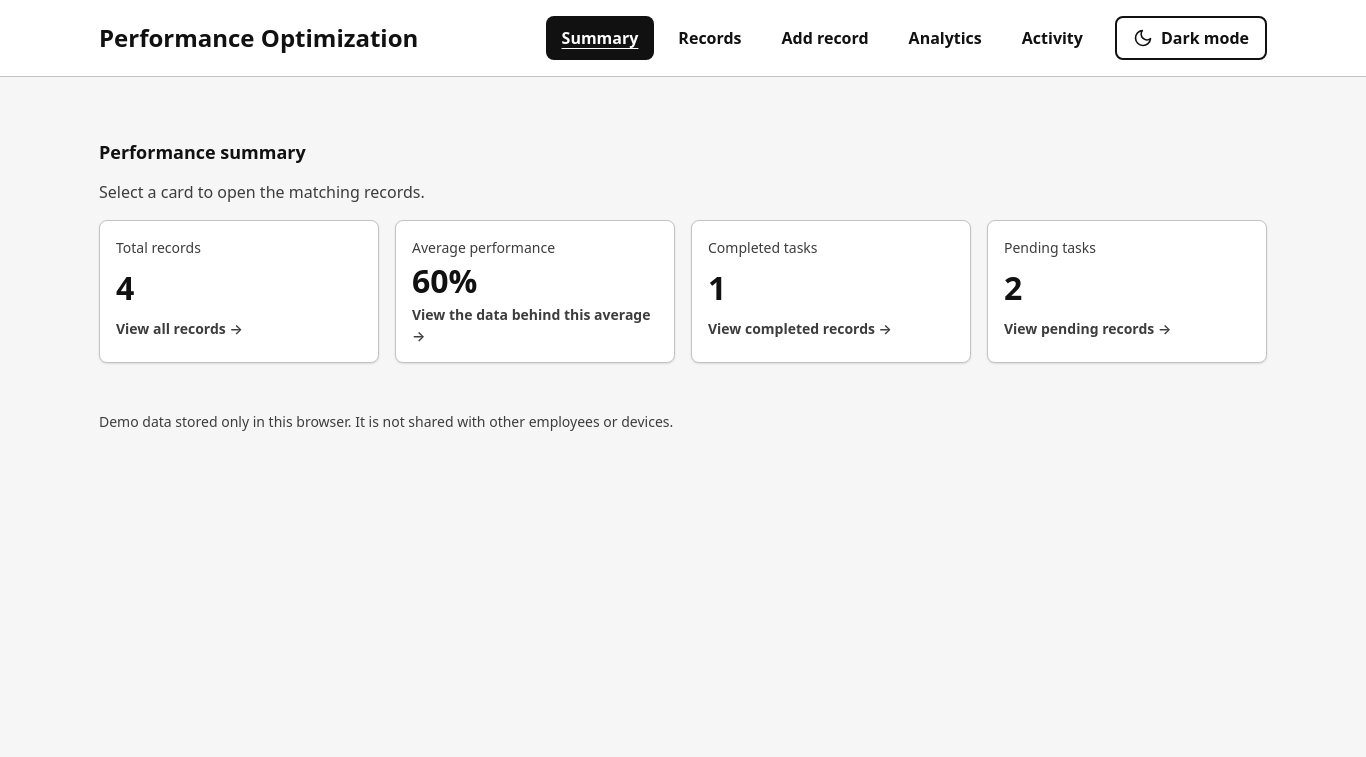
Test: interactive summary cards › Average view excludes records without a valid current value
The width and height of the screenshot is (1366, 757).
Click the button "Average performance 60% View the data behind this average →" at (484, 247), box [395,220,675,363]
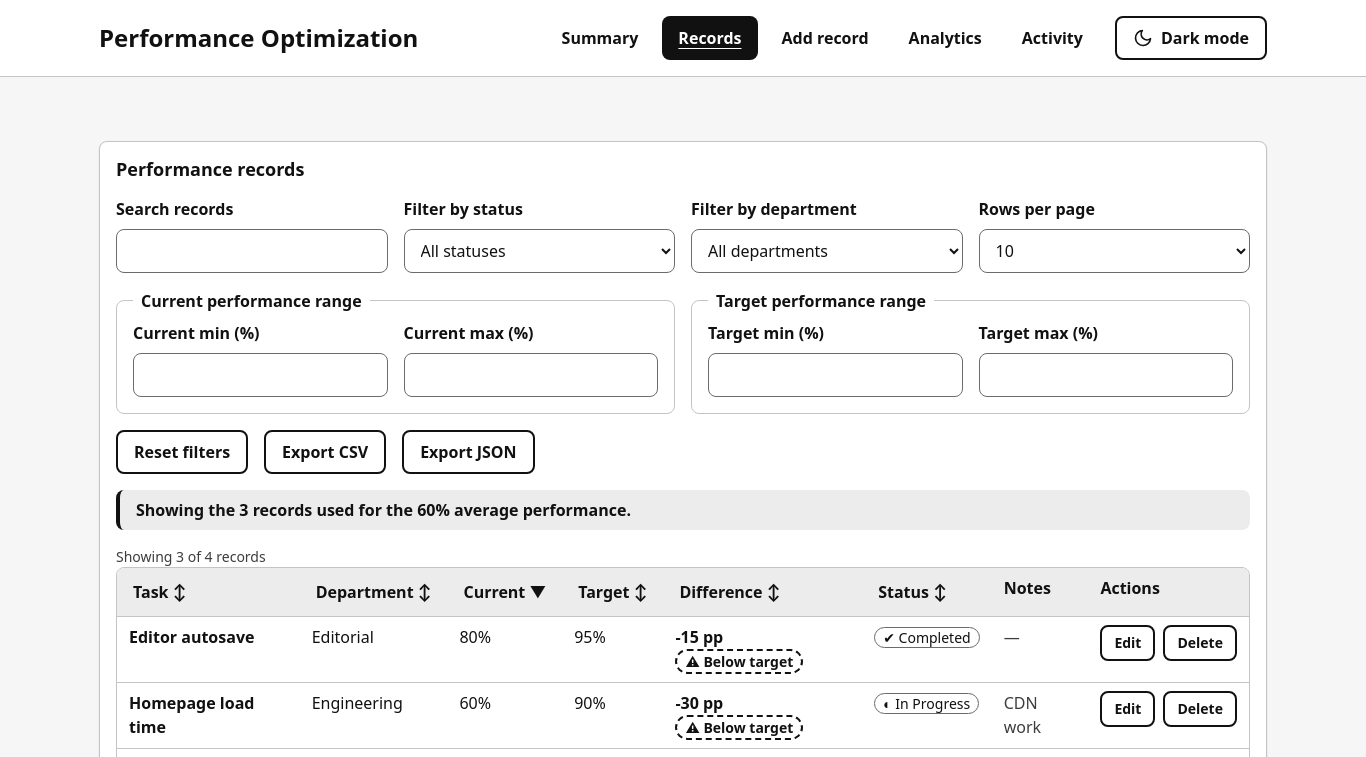
Now the text "Showing the 3 records used for the 60% average performance." is shown, box [116,490,1250,530]
